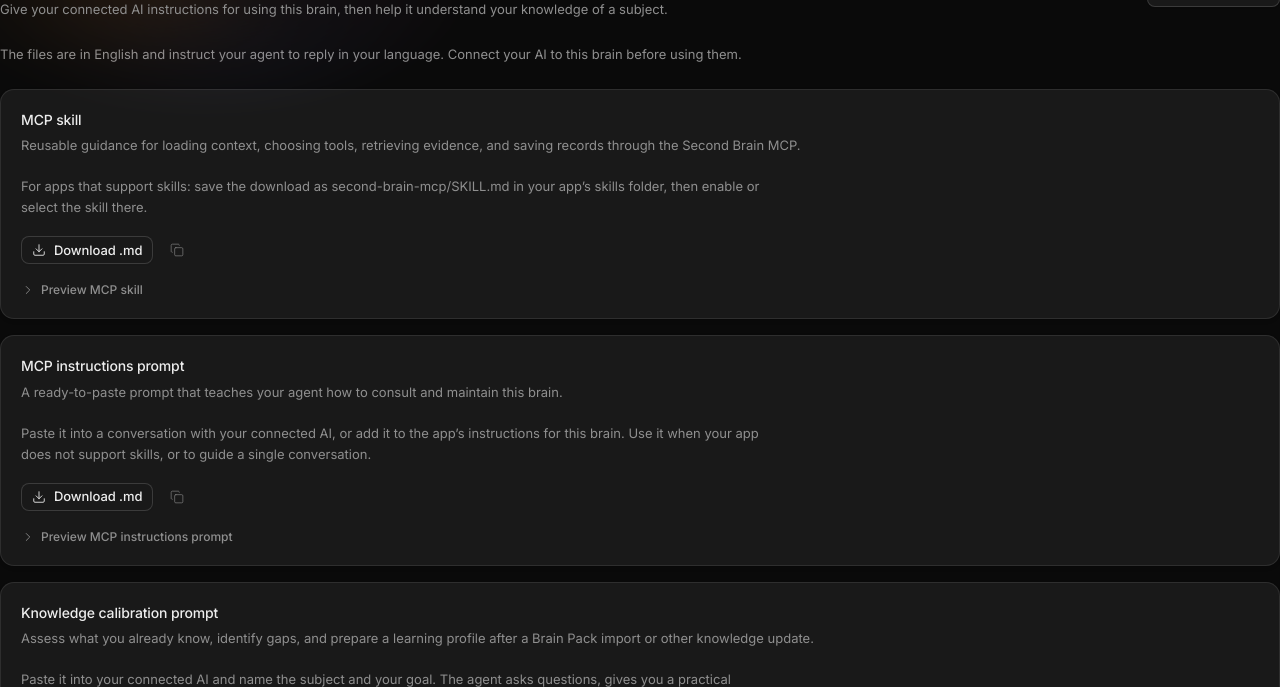
Test: agent resources › downloads, copies and previews the complete MCP skill from the same source
The width and height of the screenshot is (1280, 687).
Click the button named "Copy MCP skill" at (177, 250), box [161,234,193,266]
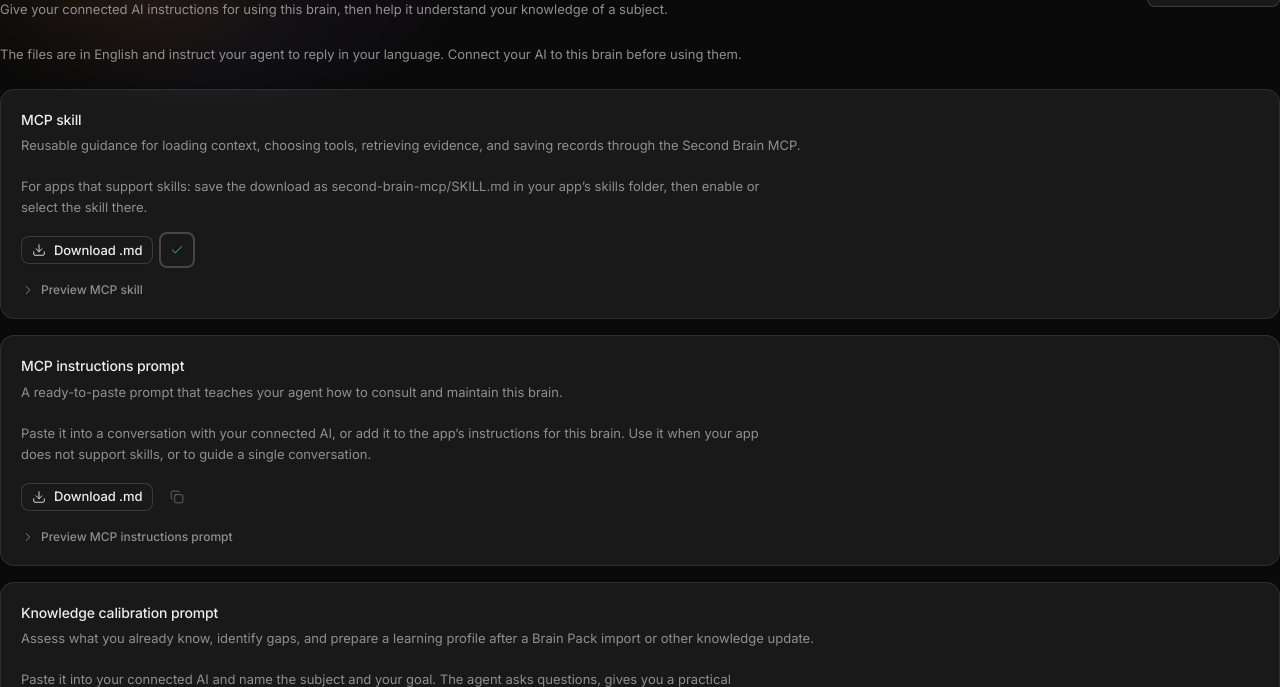
Click the heading "Preview MCP skill" at (82, 290), box [21,282,143,298]
(page scrolled)
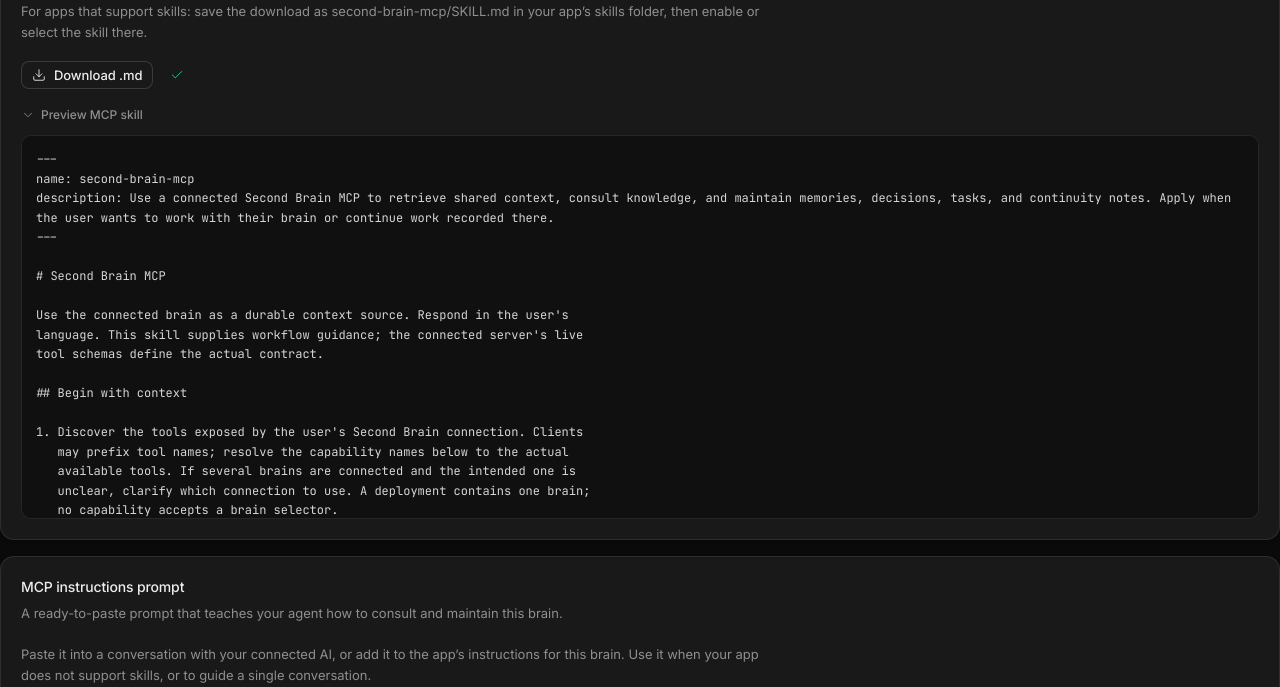
Now the text named "MCP skill" is shown, box [21,135,1259,519]
